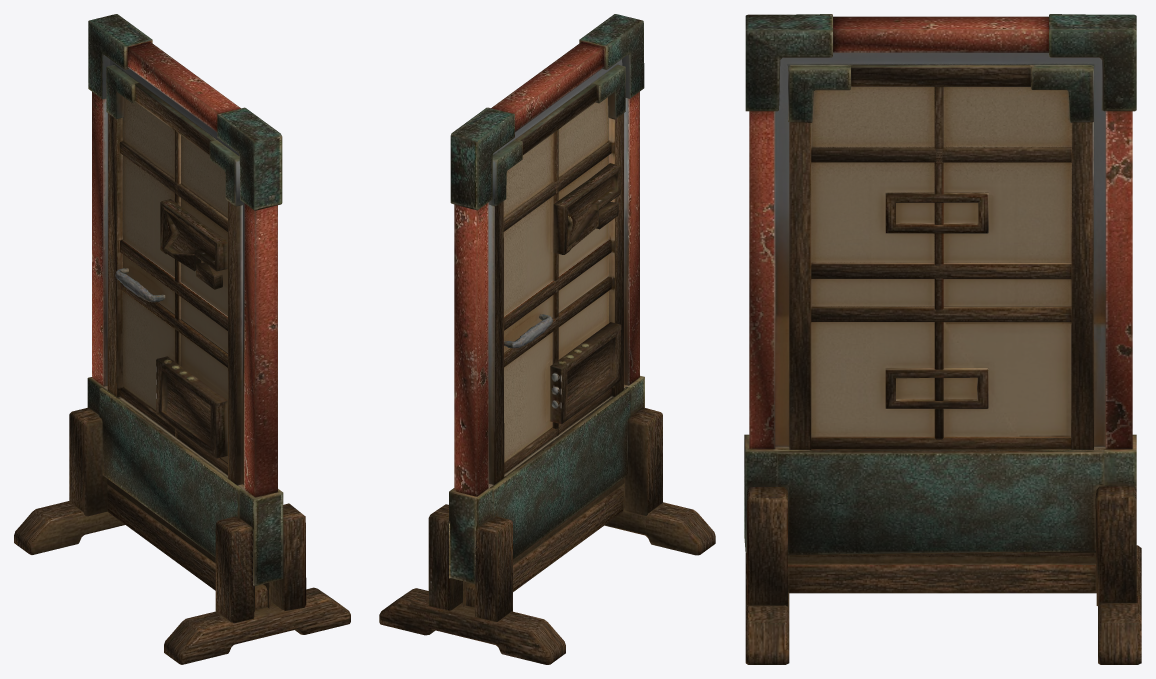
Rendered from tripo_convert_d6b388af-b092-49c0-b046-bca1eb35d746.fbx.
The picture shows the model from 3 angles, left to right: view 1: azimuth 30°, elevation 25°; view 2: azimuth 150°, elevation 25°; view 3: azimuth 270°, elevation 25°; orthographic projection. The views are drawn at different scales.
Visible parts, largest first — view 1: tripo_node_d6b388af; view 2: tripo_node_d6b388af; view 3: tripo_node_d6b388af.
Boxes of the visible parts, bbox=[...] form: tripo_node_d6b388af: bbox=[14, 14, 350, 664]; tripo_node_d6b388af: bbox=[379, 14, 715, 664]; tripo_node_d6b388af: bbox=[744, 14, 1141, 664].
Bounding box in the file's own units: 0.3535 × 0.998 × 0.6035.
1 material, 1 textured.
